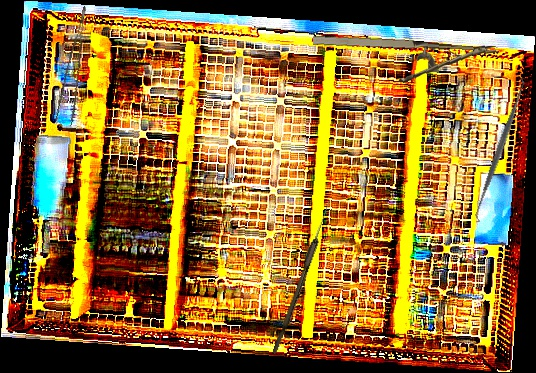Needle Holder: (309, 30, 499, 91)
Spatula Surgical: (466, 76, 534, 224)
Surgical Spoon: (272, 198, 333, 356)
Tissue Forceps: (49, 6, 106, 126)
